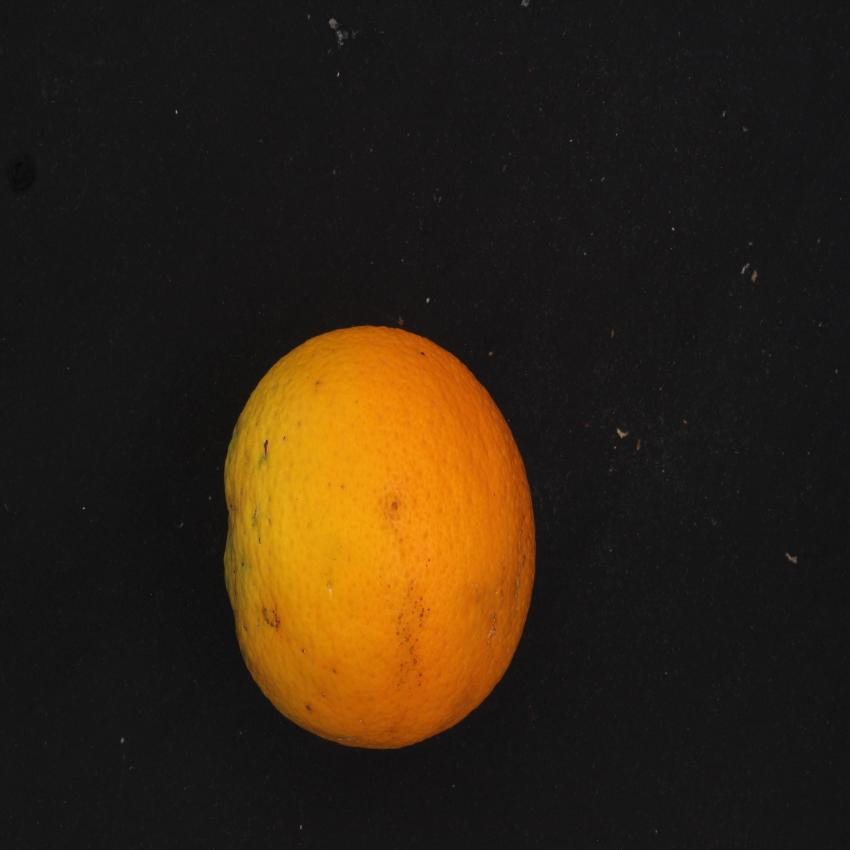Buen estado: (210, 315, 574, 766)
